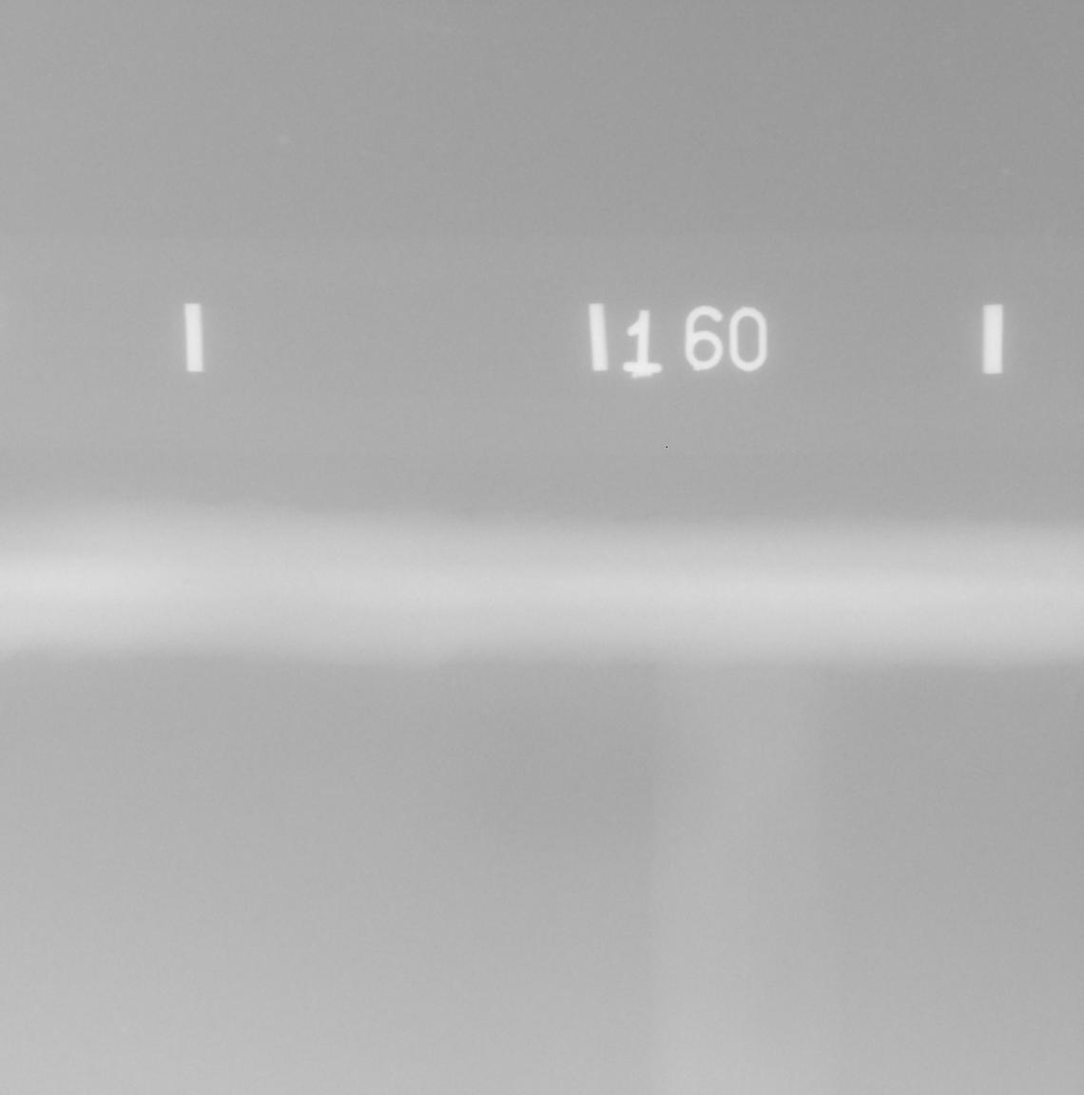Pore/Porosity: (180, 579, 191, 584), (1048, 602, 1053, 607)
